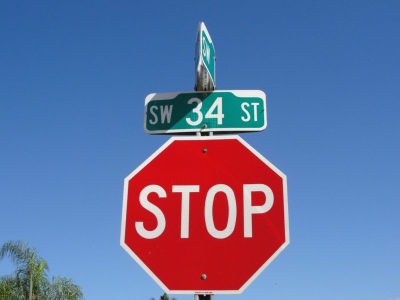stop: (129, 151, 278, 275)
